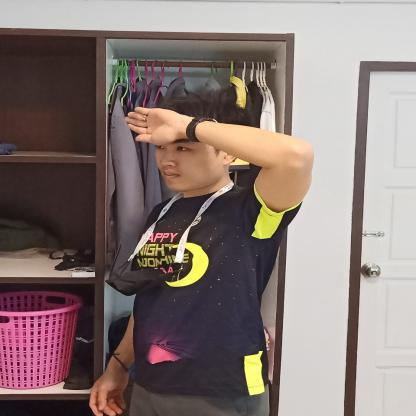Sick: (53, 79, 242, 176)
